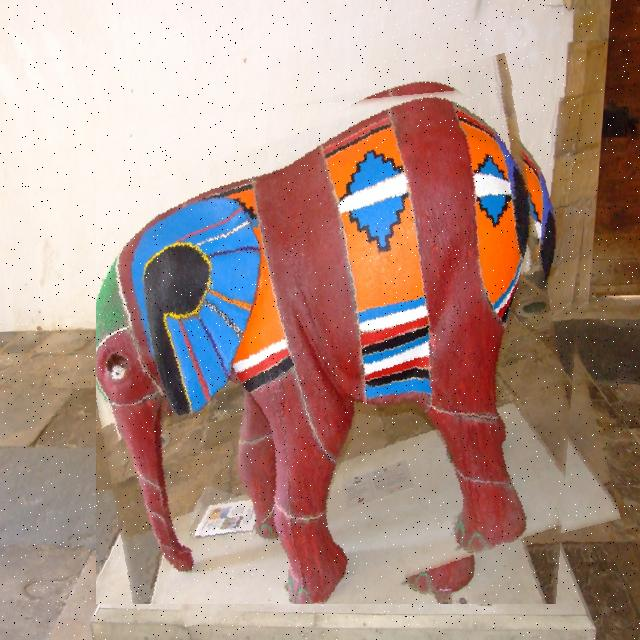elephant: (96, 77, 595, 604)
